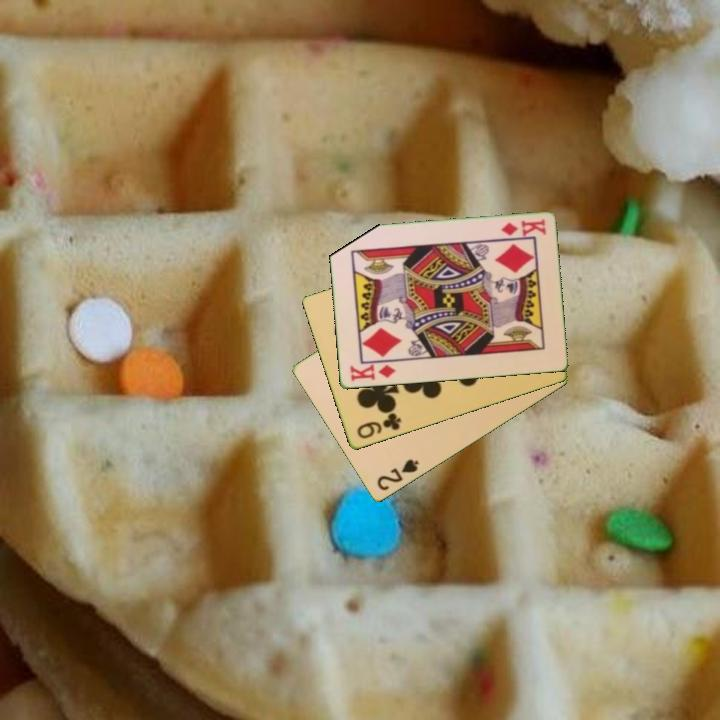2s: (373, 456, 422, 494)
9c: (353, 410, 404, 442)
Kd: (346, 361, 398, 384), (497, 216, 548, 239)
